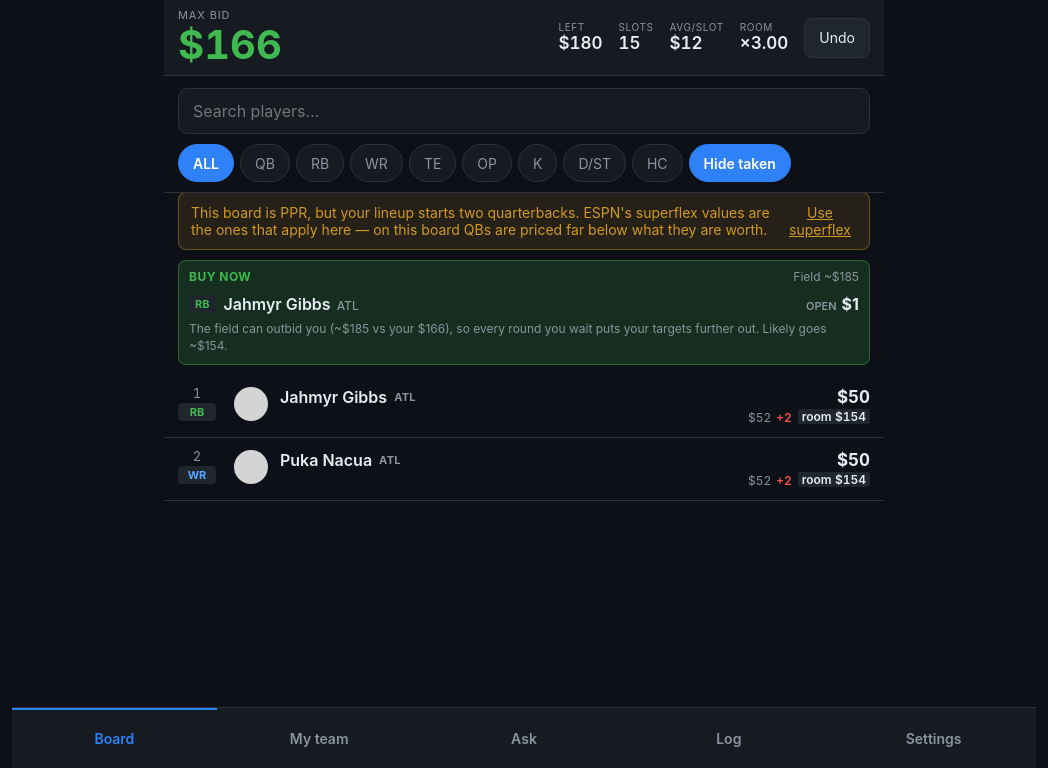
Scenario: draft board end to end › places a won player into its starting slot
Click the button "My team" at (319, 738), box x1=217 y1=708 x2=422 y2=767
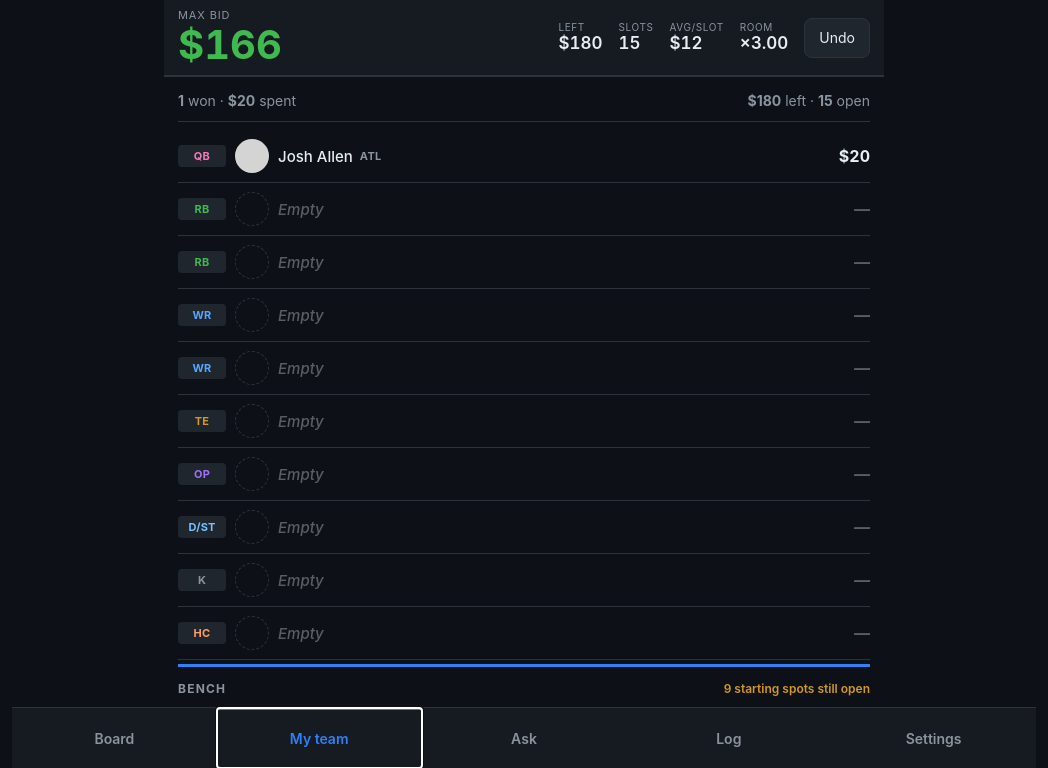
Expected: the text "QB" is shown, x1=178 y1=145 x2=226 y2=167
Expected: the text "$20" in the row of "QB" is shown, x1=839 y1=146 x2=870 y2=166
